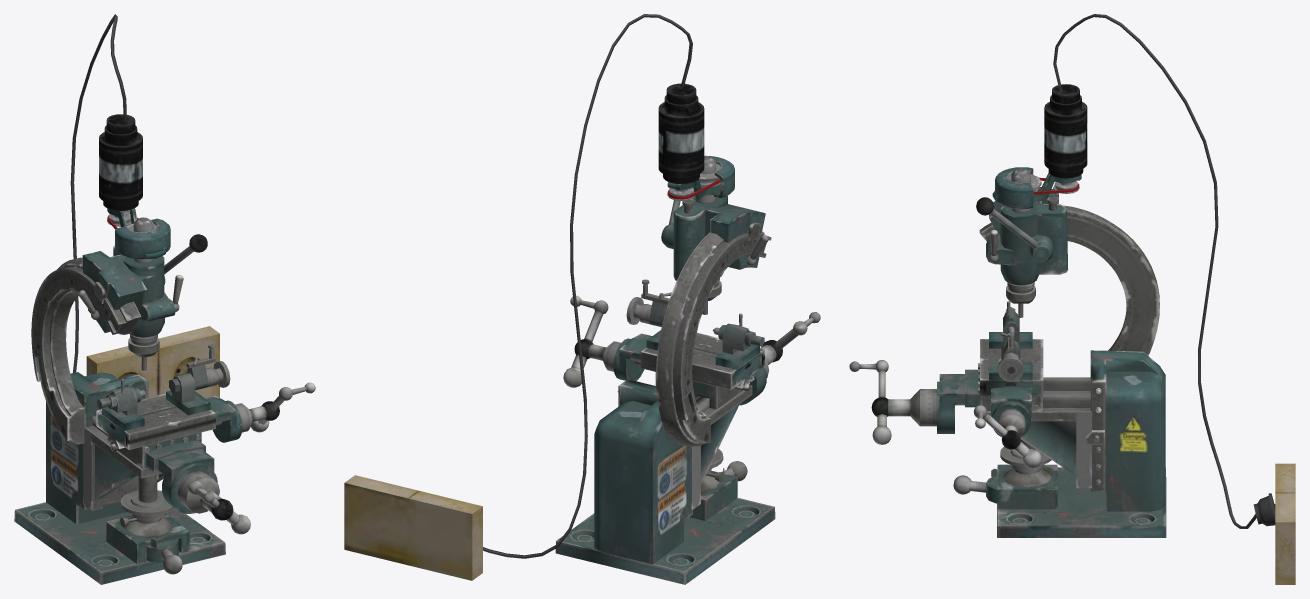
Rendered from shop-machine.glb.
3 views of the same model, side by side, from view 1: azimuth 30°, elevation 25°; view 2: azimuth 150°, elevation 25°; view 3: azimuth 270°, elevation 25° (orthographic). The views are drawn at different scales.
Parts seen in each view (by area): view 1: machin1_low_lambert1_0; view 2: machin1_low_lambert1_0; view 3: machin1_low_lambert1_0.
Boxes of the visible parts, box(x1,y1,x2,y2) form: machin1_low_lambert1_0: box(14, 14, 315, 584); machin1_low_lambert1_0: box(344, 14, 820, 584); machin1_low_lambert1_0: box(849, 14, 1295, 584).
Bounding box in the file's own units: 0.7744 × 1.4 × 1.14.
Materials: 1 (1 with a texture image).
